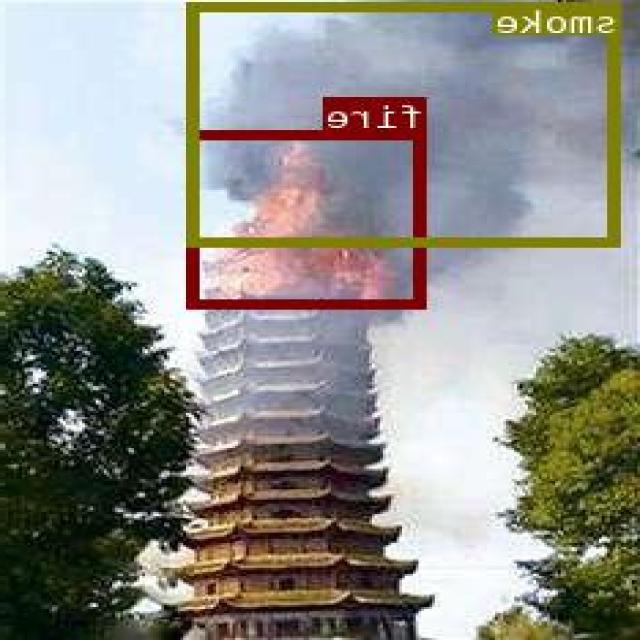fire: (191, 130, 428, 306)
smoke: (191, 1, 623, 245)
